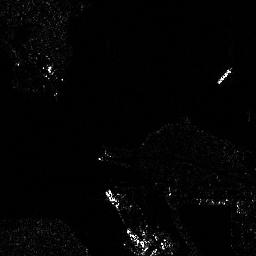ship: (216, 66, 232, 84)
